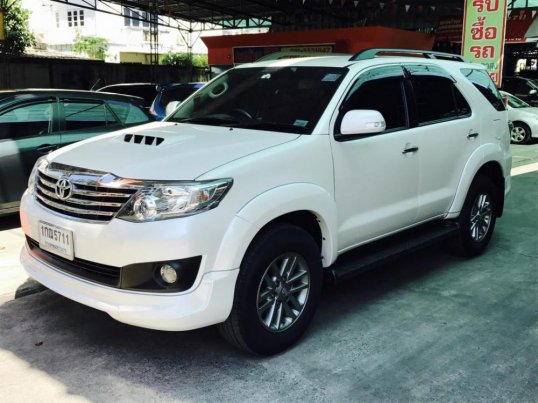pickup: (18, 47, 513, 358)
